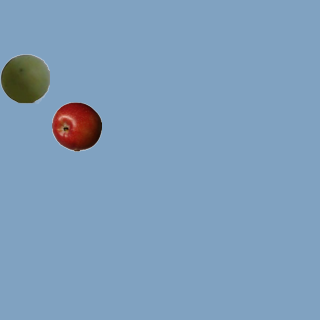Apple Braeburn: (51, 101, 101, 151)
Grape White 4: (0, 53, 49, 103)
